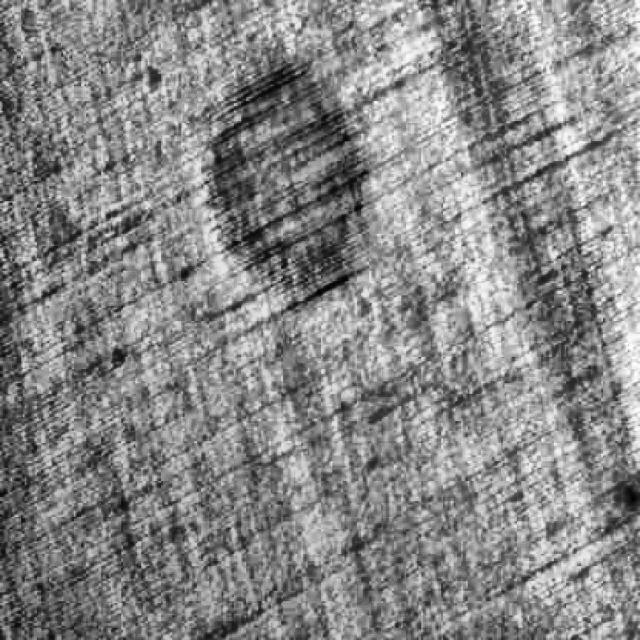oil_spot: (185, 49, 387, 316)
